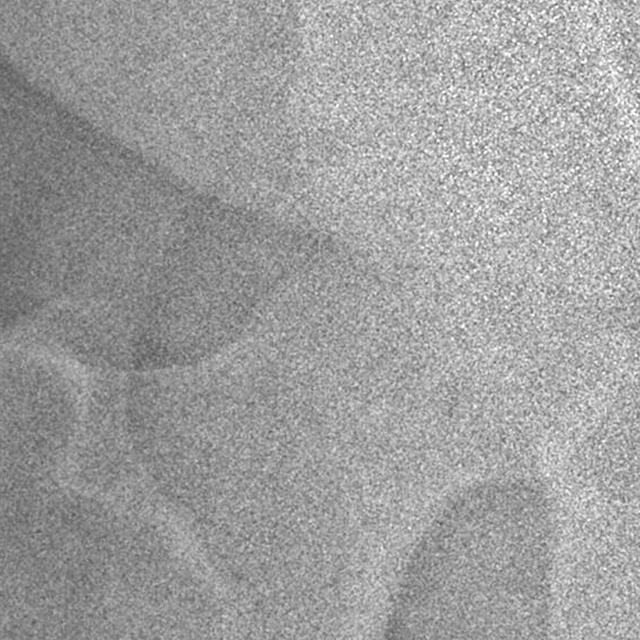Fitted_femural_head: (387, 138, 432, 387)
